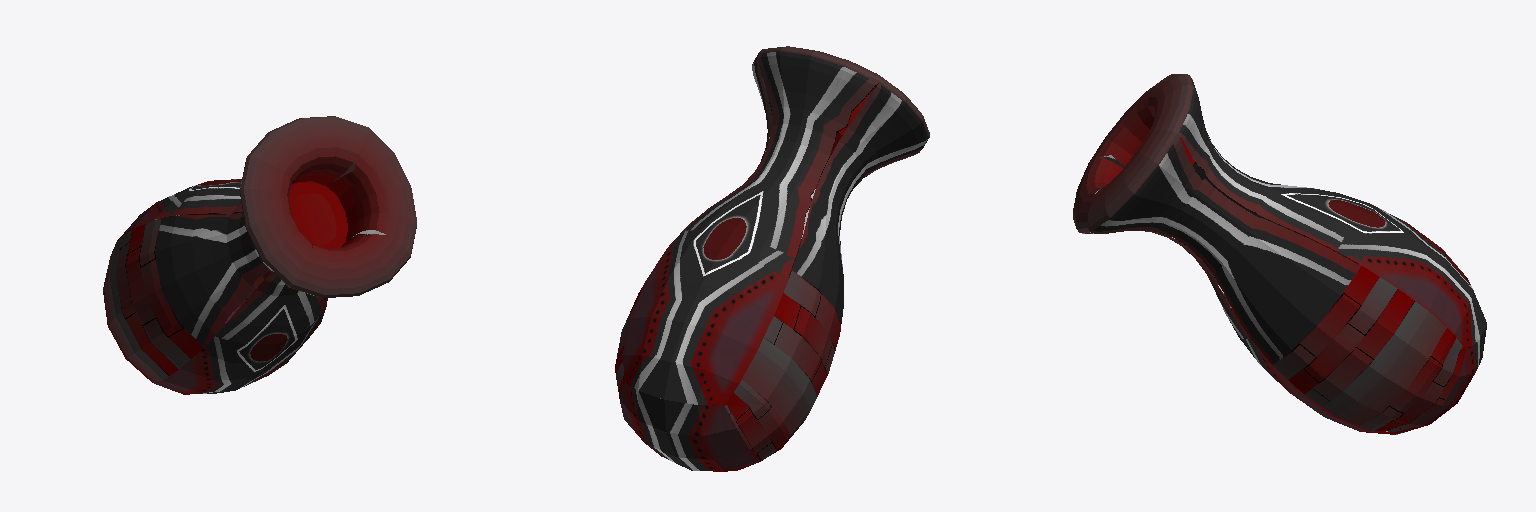
The picture shows the model from 3 angles: view 1: azimuth 30°, elevation 25°; view 2: azimuth 150°, elevation 25°; view 3: azimuth 270°, elevation 25°; orthographic projection.
Visible parts, largest first — view 1: thing; view 2: thing; view 3: thing.
Part boxes in pixels (x1,y1,x2,y2): thing: (103, 116, 416, 394); thing: (615, 46, 929, 471); thing: (1073, 74, 1486, 434).
Size of the model in its own units: 1.81 by 3.34 by 3.67.
1 materials, 1 textured.